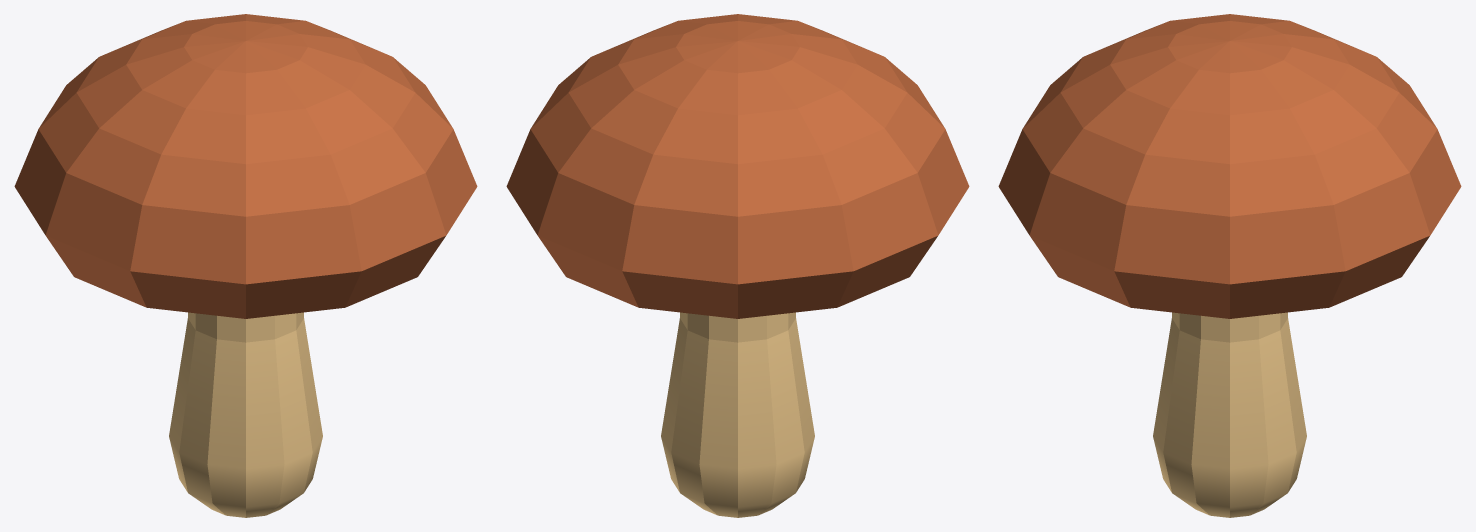
The model's file is mushroom_357416df.glb.
3 views of the same model, side by side, from view 1: azimuth 30°, elevation 25°; view 2: azimuth 150°, elevation 25°; view 3: azimuth 270°, elevation 25° (orthographic).
Visible parts, largest first — view 1: pSphere1; view 2: pSphere1; view 3: pSphere1.
Part boxes in pixels (x1,y1,x2,y2): pSphere1: (14,14,477,517); pSphere1: (506,14,969,517); pSphere1: (998,14,1461,517).
Size of the model in its own units: 2.38 by 2.63 by 2.38.
1 material, 1 textured.
